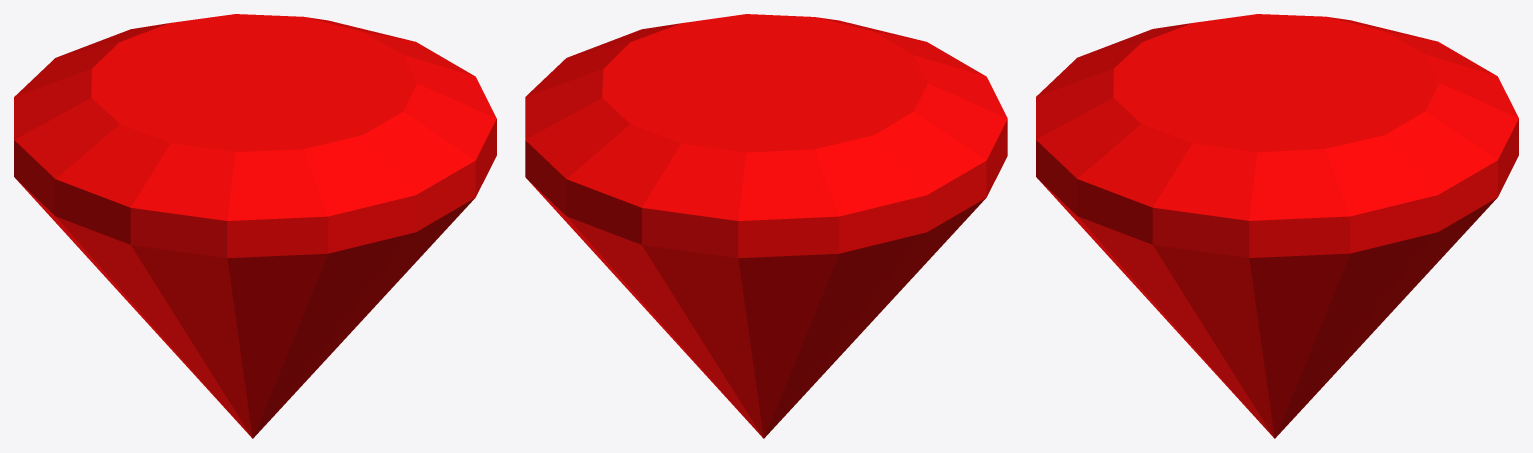
Rendered from Ruby.gltf.
3 renders of one model, left to right at view 1: azimuth 30°, elevation 25°; view 2: azimuth 150°, elevation 25°; view 3: azimuth 270°, elevation 25°, orthographic.
Visible parts, largest first — view 1: Cylinder; view 2: Cylinder; view 3: Cylinder.
Boxes of the visible parts, x1=… form: Cylinder: x1=14, y1=14, x2=496, y2=438; Cylinder: x1=525, y1=14, x2=1007, y2=438; Cylinder: x1=1036, y1=14, x2=1518, y2=438.
Bounding box in the file's own units: 1.99 × 1.61 × 1.98.
